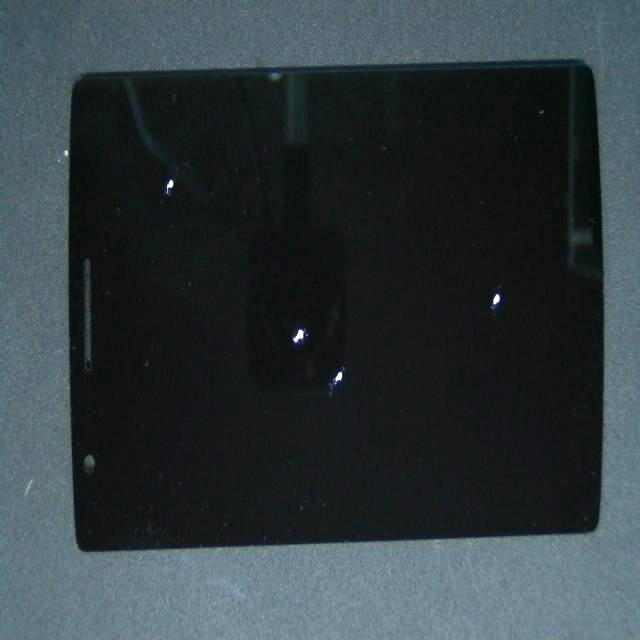stain: (181, 149, 503, 538), (266, 111, 640, 403), (152, 128, 435, 476), (83, 44, 242, 248)
